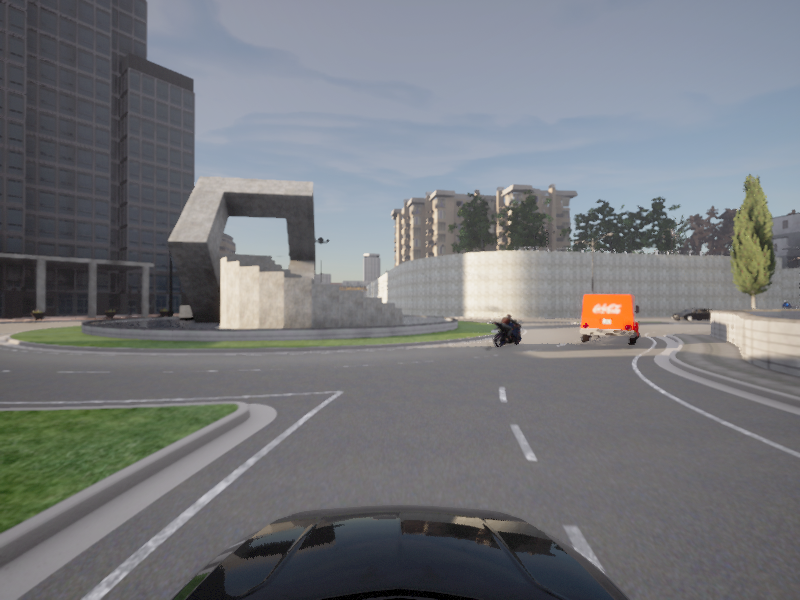vehicle: (576, 293, 640, 347), (485, 313, 528, 349)
